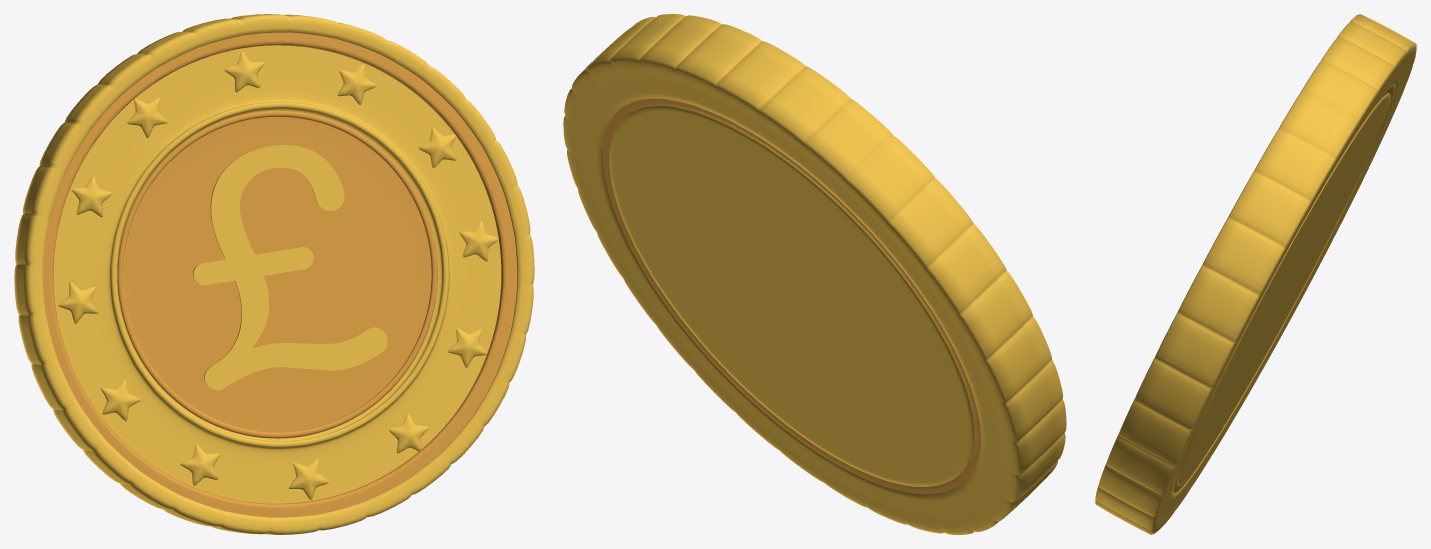
File: pound-sterling-coin-symbol-3d-animated-icon-1338602026063.glb
The picture shows the model from 3 angles, left to right: view 1: azimuth 30°, elevation 25°; view 2: azimuth 150°, elevation 25°; view 3: azimuth 270°, elevation 25°; orthographic projection. The views are drawn at different scales.
Parts seen in each view (by area): view 1: Cylinder.001, Cylinder.007, Curve, Star.009, Star.008, Star.010, Star.007, Star.011, Star, Star.006, Star.001, Star.003 (+3 smaller); view 2: Cylinder.001, Cylinder.007; view 3: Cylinder.001, Cylinder.007.
Boxes of the visible parts, x1,y1,x2,y2 form: Cylinder.001: (14, 14, 534, 534); Cylinder.007: (43, 32, 517, 517); Curve: (193, 145, 387, 390); Star.009: (57, 282, 98, 324); Star.008: (101, 379, 140, 421); Star.010: (71, 176, 112, 216); Star.007: (180, 444, 220, 485); Star.011: (126, 97, 167, 137); Star: (224, 51, 264, 92); Star.006: (289, 459, 329, 499); Star.001: (337, 64, 376, 105); Star.003: (459, 221, 498, 261); Cylinder.001: (563, 14, 1066, 534); Cylinder.007: (602, 98, 980, 493); Cylinder.001: (1095, 14, 1416, 534); Cylinder.007: (1173, 86, 1394, 492).
Size of the model in its own units: 2.18 by 2.11 by 1.26.
